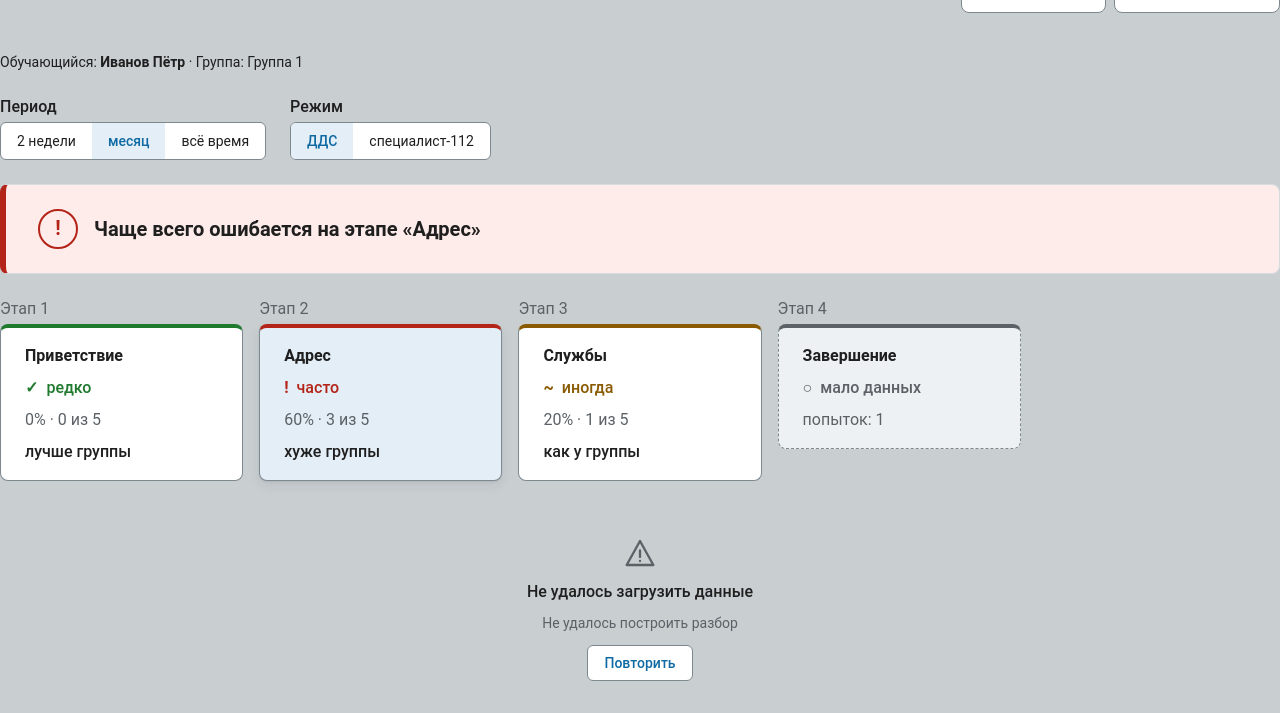
страница «Карта ошибок обучающегося» › разбор этапа › ошибка разбора — сообщение и повтор
(page scrolled)
Expected: the text "Не удалось построить разбор" is shown, top-left (542, 614), bottom-right (738, 633)
Click the button "Повторить" at (640, 663), box top-left (587, 645), bottom-right (692, 681)
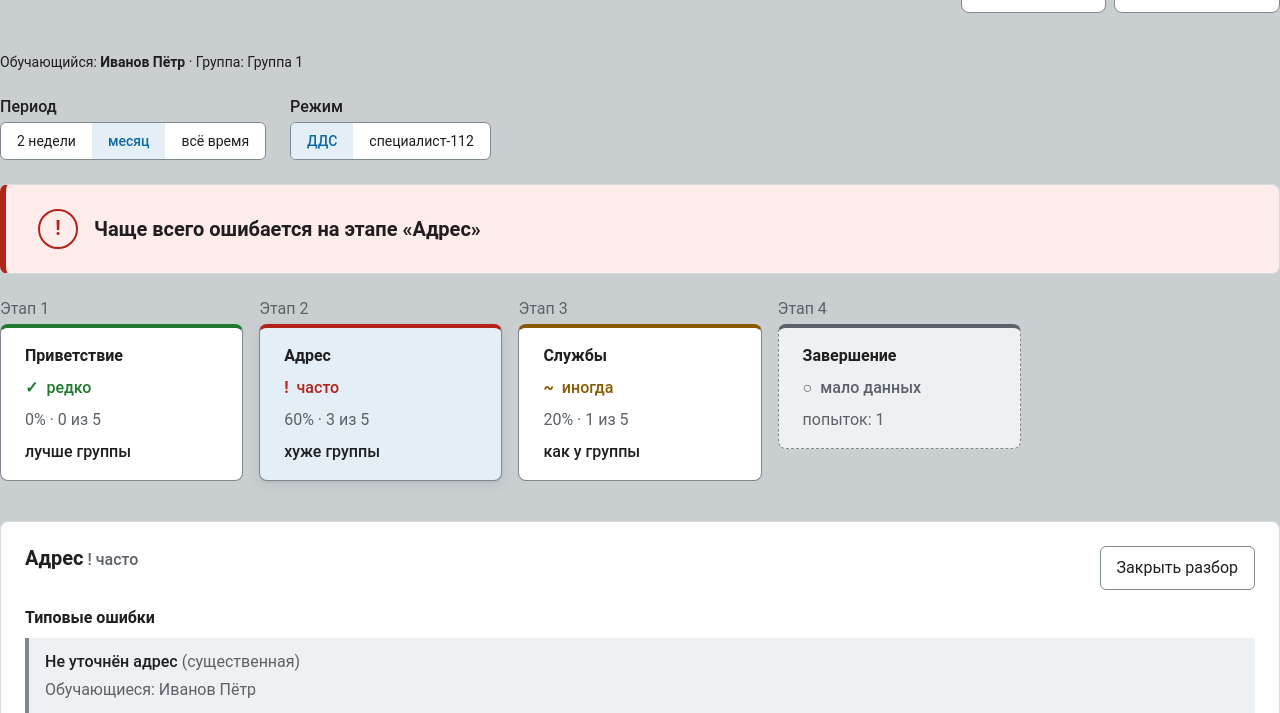
Expected: the heading "Адрес ! часто" is shown, top-left (25, 546), bottom-right (138, 570)
